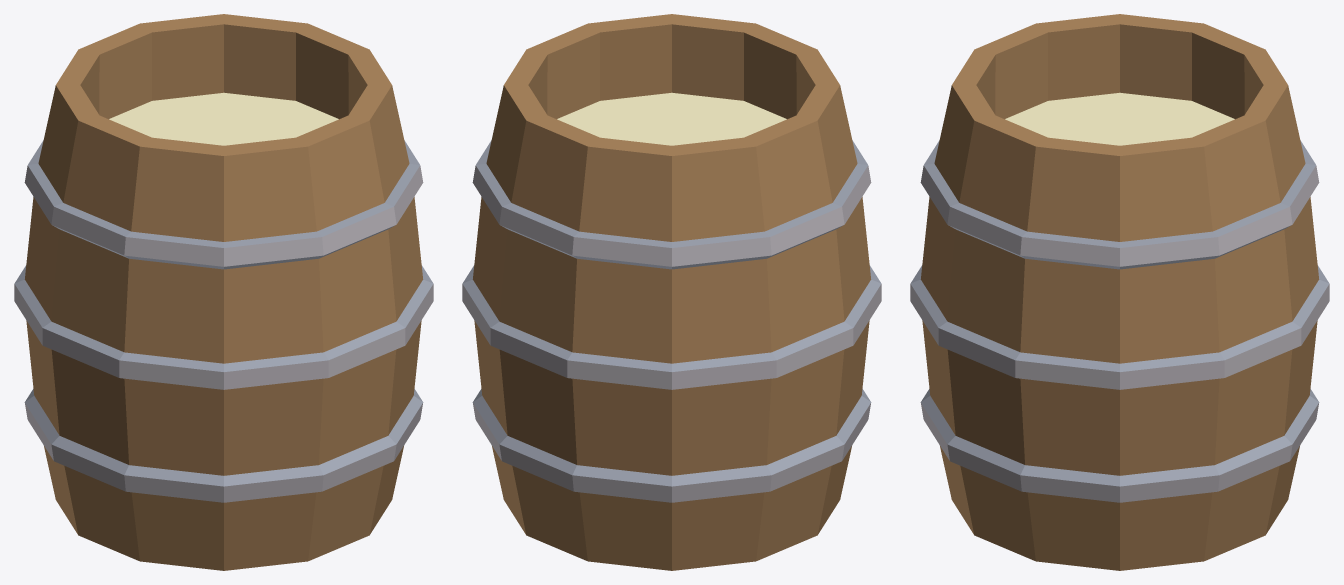
Rendered from barrel_milk.glb.
3 renders of one model, left to right at view 1: azimuth 30°, elevation 25°; view 2: azimuth 150°, elevation 25°; view 3: azimuth 270°, elevation 25°, orthographic.
Parts seen in each view (by area): view 1: barrel_milk; view 2: barrel_milk; view 3: barrel_milk.
Part boxes in pixels (x1,y1,x2,y2): barrel_milk: (14,14,433,570); barrel_milk: (462,14,881,570); barrel_milk: (910,14,1329,570).
Size of the model in its own units: 3.8 by 4.15 by 3.8.
Materials: 1 (1 with a texture image).
